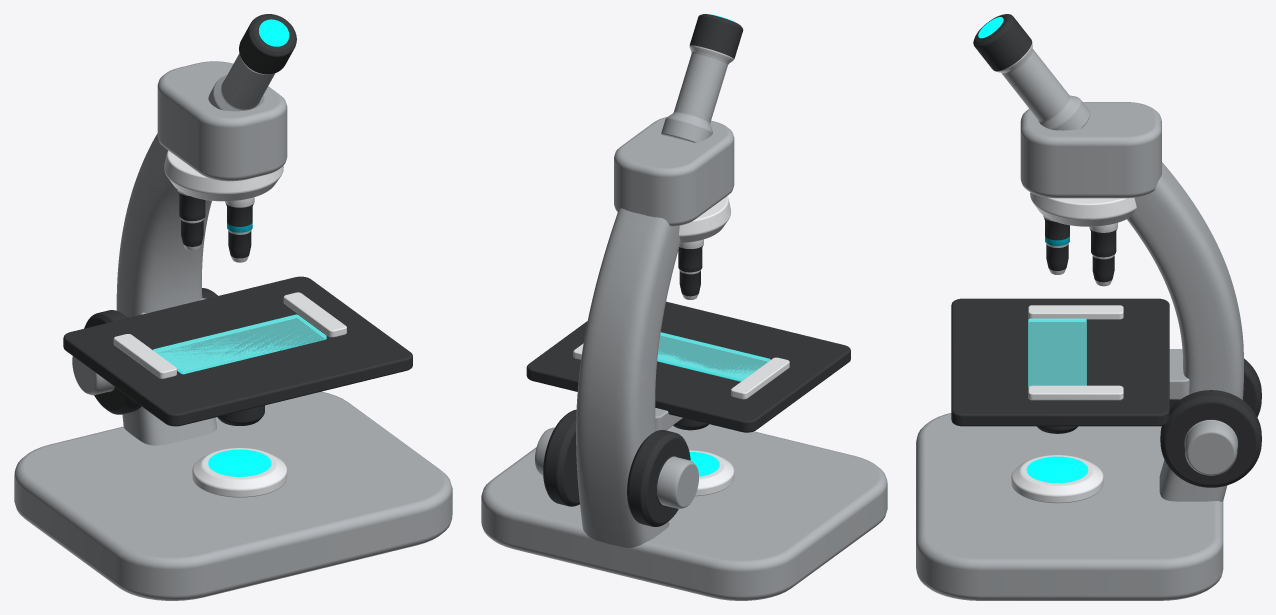
The model's file is microscope.glb.
3 renders of one model, left to right at view 1: azimuth 30°, elevation 25°; view 2: azimuth 150°, elevation 25°; view 3: azimuth 270°, elevation 25°, orthographic. The views are drawn at different scales.
Parts seen in each view (by area): view 1: Base, Stage, Arm, Head, Slide, Eyepiece, Turret, Illuminator, KnobL, Objective1, Lamp, Objective3 (+4 smaller); view 2: Base, Arm, Stage, Head, Eyepiece, KnobL, KnobR, Slide, Objective3, Turret, ClipL, Illuminator; view 3: Base, Stage, Arm, Head, KnobR, Eyepiece, Slide, Turret, Illuminator, ClipR, Objective2, ClipL (+4 smaller).
Part boxes in pixels (x1=…): Base: x1=14, y1=391, x2=452, y2=600; Stage: x1=63, y1=276, x2=412, y2=426; Arm: x1=116, y1=133, x2=216, y2=445; Head: x1=157, y1=61, x2=287, y2=181; Slide: x1=153, y1=314, x2=326, y2=374; Eyepiece: x1=208, y1=14, x2=296, y2=111; Turret: x1=164, y1=150, x2=283, y2=201; Illuminator: x1=192, y1=448, x2=287, y2=497; KnobL: x1=72, y1=310, x2=141, y2=414; Objective1: x1=225, y1=197, x2=254, y2=262; Lamp: x1=208, y1=449, x2=271, y2=476; Objective3: x1=177, y1=190, x2=205, y2=250; Base: x1=481, y1=424, x2=887, y2=600; Arm: x1=576, y1=208, x2=680, y2=547; Stage: x1=526, y1=301, x2=850, y2=432; Head: x1=614, y1=117, x2=734, y2=226; Eyepiece: x1=661, y1=14, x2=743, y2=142; KnobL: x1=627, y1=430, x2=698, y2=526; KnobR: x1=535, y1=409, x2=579, y2=506; Slide: x1=657, y1=332, x2=770, y2=381; Objective3: x1=678, y1=239, x2=703, y2=299; Turret: x1=679, y1=196, x2=730, y2=243; ClipL: x1=731, y1=357, x2=789, y2=399; Illuminator: x1=689, y1=450, x2=734, y2=496; Base: x1=916, y1=413, x2=1223, y2=600; Stage: x1=951, y1=298, x2=1169, y2=426; Arm: x1=1127, y1=162, x2=1243, y2=501; Head: x1=1020, y1=102, x2=1161, y2=198; KnobR: x1=1160, y1=390, x2=1261, y2=487; Eyepiece: x1=973, y1=14, x2=1090, y2=130; Slide: x1=1028, y1=318, x2=1086, y2=387; Turret: x1=1030, y1=192, x2=1136, y2=226; Illuminator: x1=1011, y1=455, x2=1103, y2=503; ClipR: x1=1028, y1=385, x2=1123, y2=400; Objective2: x1=1089, y1=223, x2=1117, y2=286; ClipL: x1=1028, y1=305, x2=1123, y2=319.
Size of the model in its own units: 2.4 by 3.65 by 2.25.
